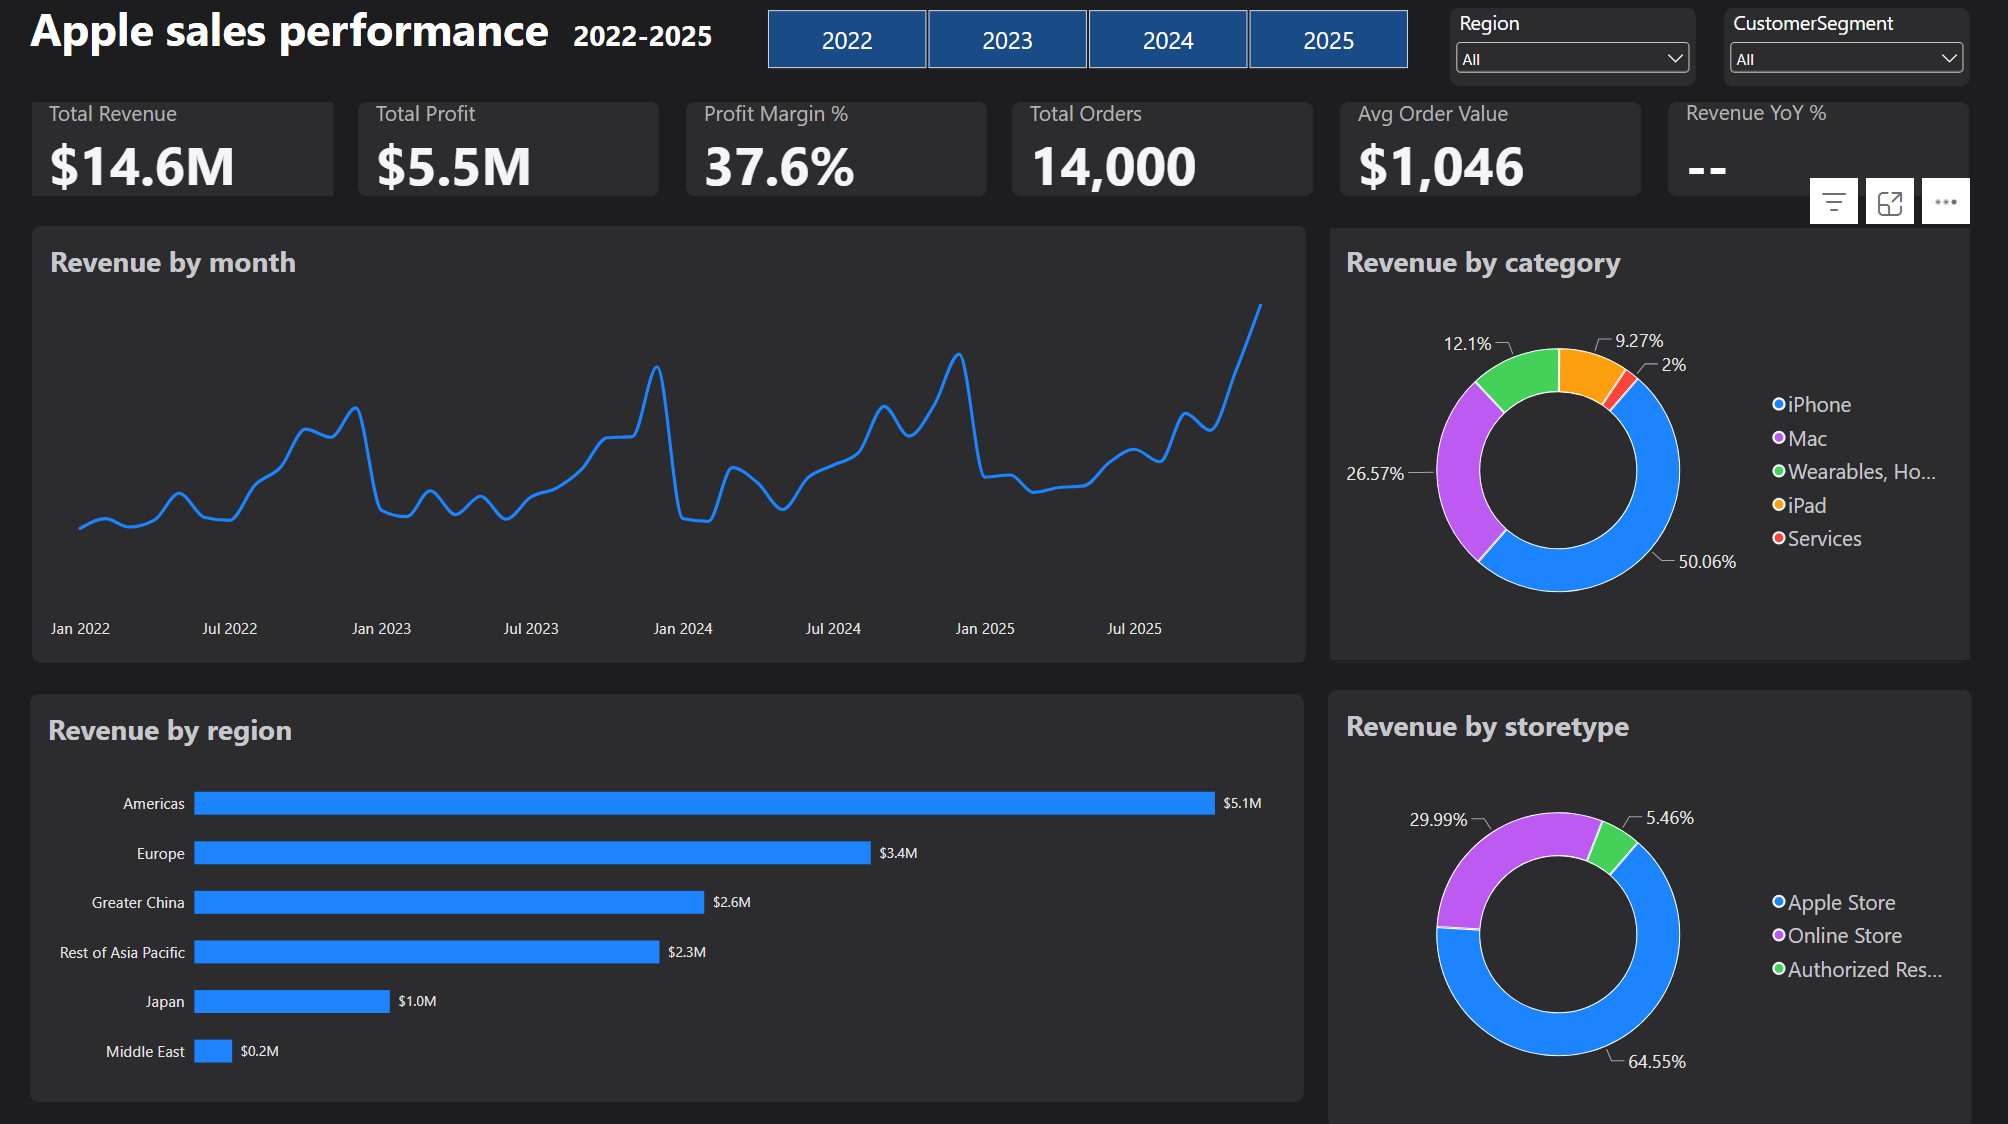

The dashboard page shown, as its layout file describes it:
{"tool":"powerbi","page":{"name":"Overview","canvas":[1920,1080],"ordinal":0},"visuals":[{"type":"cardVisual","fields":{"Data":["Sales.Total Revenue"]},"box":[30,99.9,288,90],"z":0},{"type":"cardVisual","fields":{"Data":["Sales.Total Profit"]},"box":[342.8,99.9,288,90],"z":1000},{"type":"cardVisual","fields":{"Data":["Sales.Profit Margin %"]},"box":[655.7,99.9,288,90],"z":2000},{"type":"cardVisual","fields":{"Data":["Sales.Total Orders"]},"box":[968.6,99.9,288,90],"z":3000},{"type":"cardVisual","fields":{"Data":["Sales.Avg Order Value"]},"box":[1281.5,99.9,288,90],"z":4000},{"type":"cardVisual","fields":{"Data":["Sales.Revenue YoY %"]},"box":[1594.3,99.9,288,89.9],"z":5000},{"type":"lineChart","title":"Revenue by month","fields":{"Category":["Date.YearMonth"],"Y":["Sales.Total Revenue"]},"box":[30,217.8,1218.7,417.6],"z":6000},{"type":"donutChart","title":"Revenue by category","fields":{"Category":["Product.Category"],"Y":["Sales.Total Revenue"]},"box":[1269.8,218,615.4,417.6],"z":7000},{"type":"clusteredBarChart","title":"Revenue by region","fields":{"Category":["Store.Region"],"Y":["Sales.Total Revenue"]},"box":[29,665.4,1218.2,390.1],"z":8000},{"type":"textbox","box":[28.7,0,684.6,82.2],"z":9000},{"type":"slicer","fields":{"Values":["Date.Year"]},"box":[713.3,9.6,652.1,59.3],"z":10000},{"type":"slicer","fields":{"Values":["Store.Region"]},"box":[1386.5,9.6,235.2,74.6],"z":11000},{"type":"slicer","fields":{"Values":["Sales.CustomerSegment"]},"box":[1648.4,9.6,235,75],"z":12000},{"type":"donutChart","title":"Revenue by storetype","fields":{"Category":["Store.StoreType"],"Y":["Sales.Total Revenue"]},"box":[1269.8,661.7,615.4,417.6],"z":12001}]}

Visuals, with their boxes in screenshot pixels (x1, y1, x2, y2), scaled from the page's 1920x1080 canvas onto the 2008x1124 screenshot:
cardVisual - Sales.Total Revenue: crop(31, 104, 333, 198)
cardVisual - Sales.Total Profit: crop(359, 104, 660, 198)
cardVisual - Sales.Profit Margin %: crop(686, 104, 987, 198)
cardVisual - Sales.Total Orders: crop(1013, 104, 1314, 198)
cardVisual - Sales.Avg Order Value: crop(1340, 104, 1641, 198)
cardVisual - Sales.Revenue YoY %: crop(1667, 104, 1969, 198)
"Revenue by month" lineChart: crop(31, 227, 1306, 661)
"Revenue by category" donutChart: crop(1328, 227, 1972, 661)
"Revenue by region" clusteredBarChart: crop(30, 693, 1304, 1099)
textbox: crop(30, 0, 746, 86)
slicer - Date.Year: crop(746, 10, 1428, 72)
slicer - Store.Region: crop(1450, 10, 1696, 88)
slicer - Sales.CustomerSegment: crop(1724, 10, 1970, 88)
"Revenue by storetype" donutChart: crop(1328, 689, 1972, 1123)
